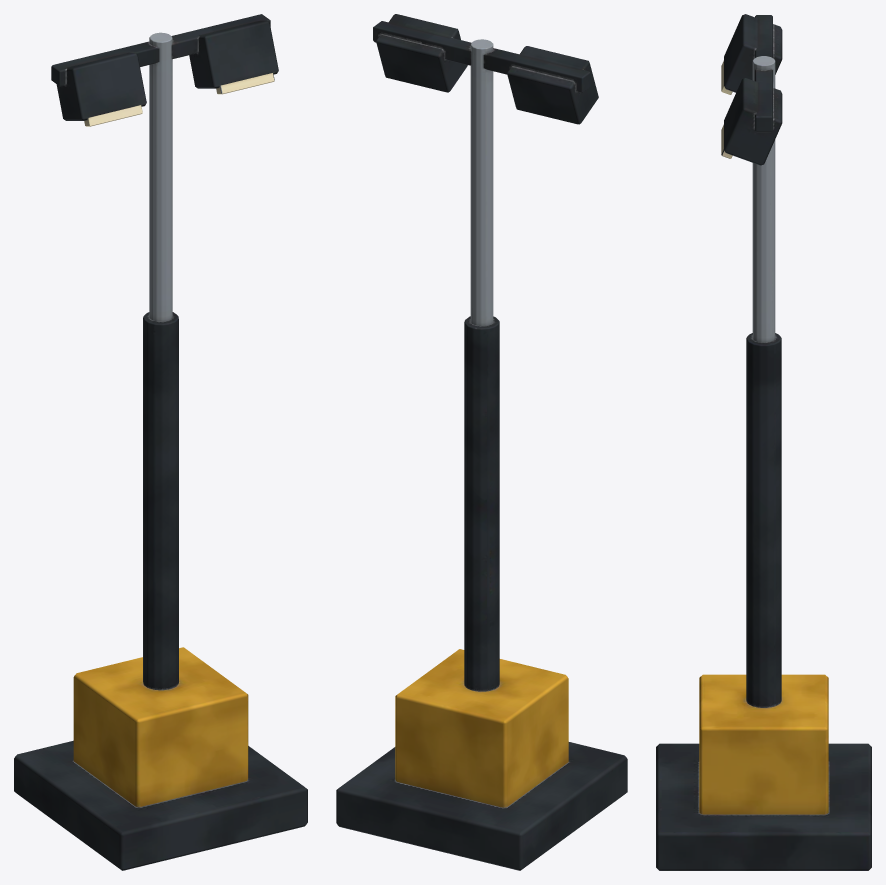
File: floodlight_tower.glb
3 renders of one model, left to right at view 1: azimuth 30°, elevation 25°; view 2: azimuth 150°, elevation 25°; view 3: azimuth 270°, elevation 25°, orthographic.
Parts seen in each view (by area): view 1: FloodlightTower; view 2: FloodlightTower; view 3: FloodlightTower.
Boxes of the visible parts, box(x1,y1,x2,y2) form: FloodlightTower: box(14, 14, 307, 870); FloodlightTower: box(336, 14, 627, 870); FloodlightTower: box(656, 14, 871, 870).
Size of the model in its own units: 1.35 by 4.7 by 1.2.
Materials: 1 (1 with a texture image).
